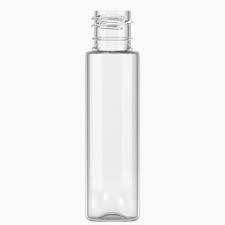Container for household chemicals: (77, 6, 161, 225)
